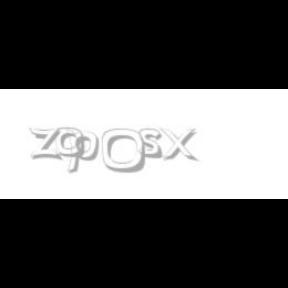O: (102, 128, 146, 174)
o: (55, 128, 84, 158)
p: (66, 128, 102, 174)
s: (139, 128, 167, 160)
x: (160, 128, 202, 162)
z: (29, 128, 65, 160)
